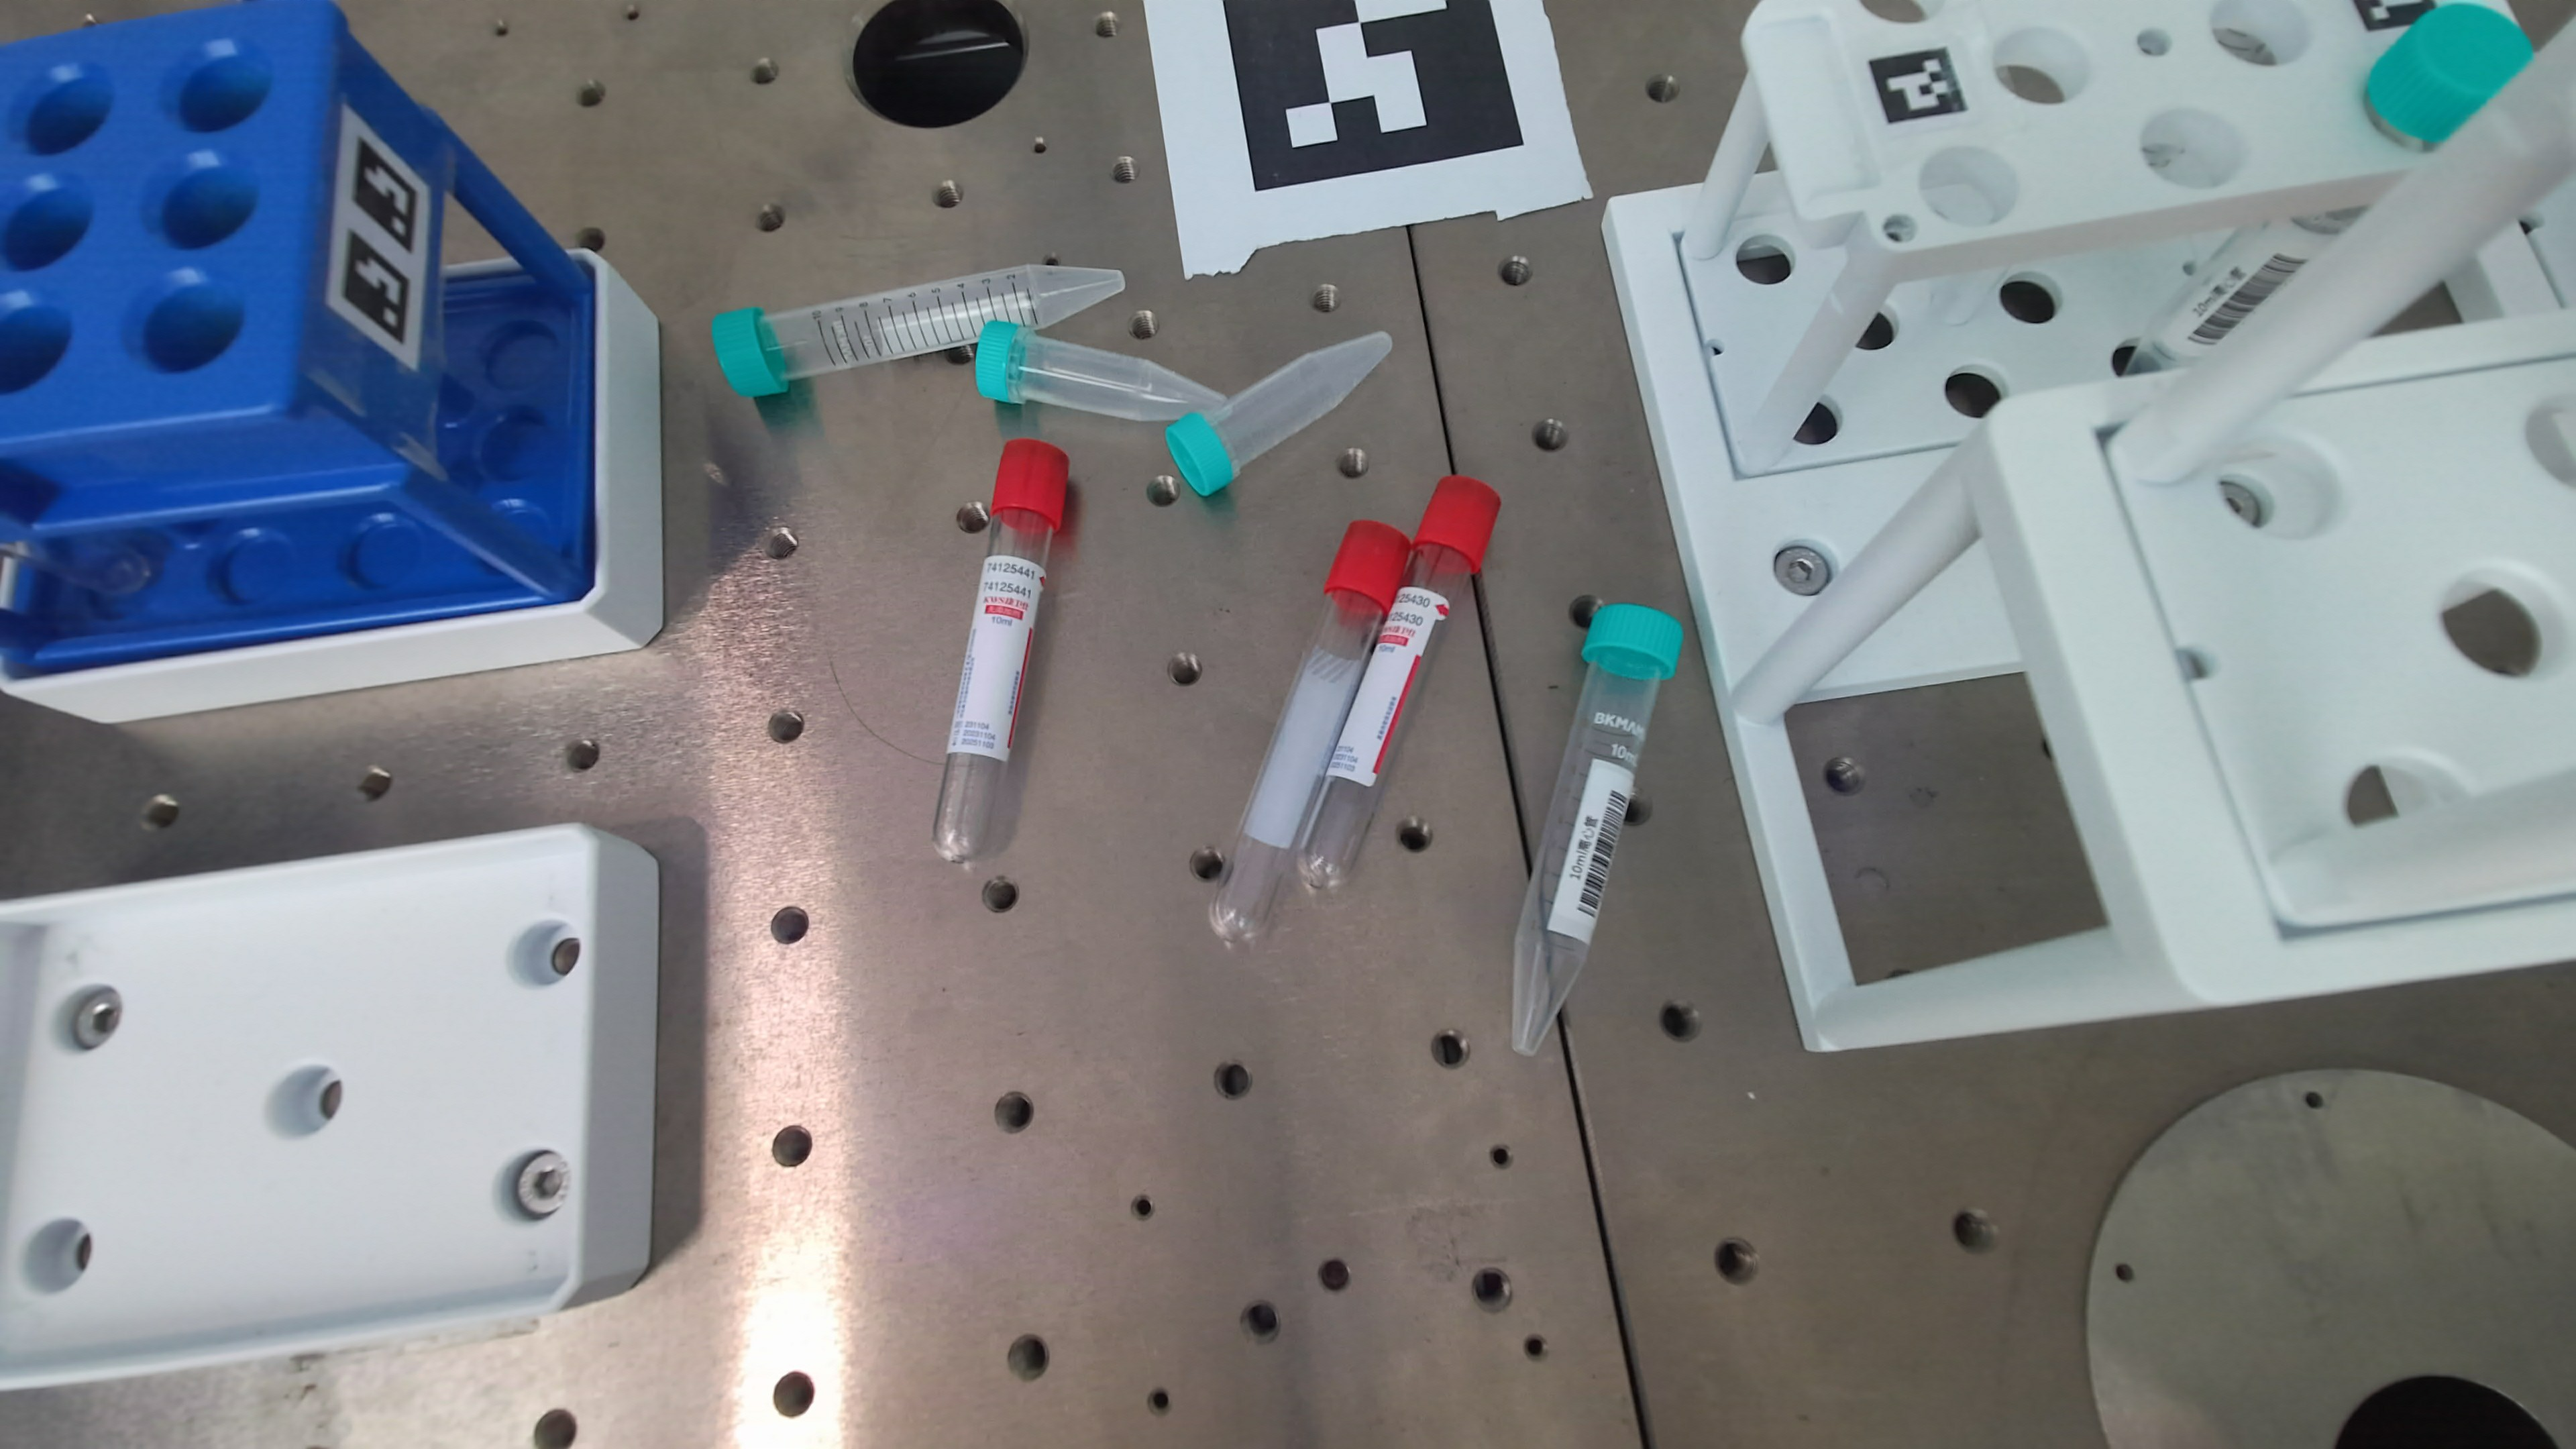10ML_centrifuge_tube: (2129, 5, 2532, 372), (1512, 604, 1682, 1053), (712, 265, 1124, 397)
10ML_sorting_tube_rack: (0, 4, 658, 716)
5ML_centrifuge_tube: (1167, 332, 1392, 496), (976, 320, 1226, 421)
blood_tube: (1298, 476, 1500, 892), (1211, 525, 1405, 943), (934, 439, 1068, 861)
dispensing_tube_rack: (1605, 0, 2576, 1049)
sorting_tube_rack_base: (0, 825, 658, 1389), (0, 255, 663, 722)
